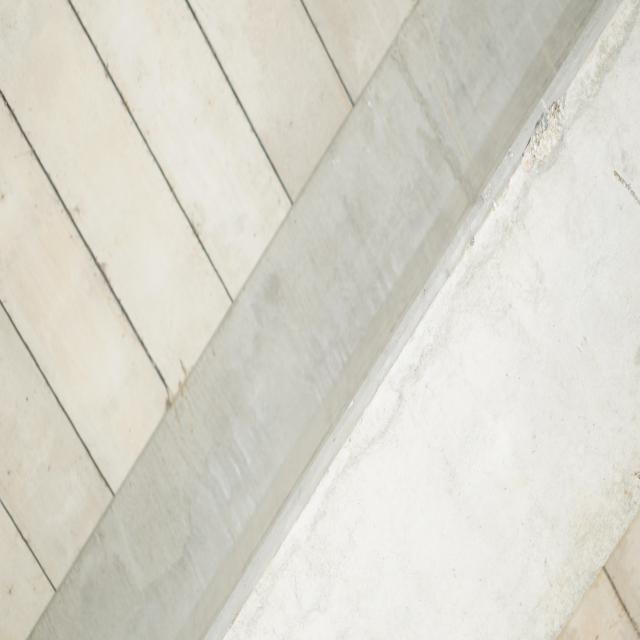concrete spalling: (520, 94, 566, 174)
